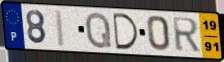0: (145, 14, 173, 53)
8: (25, 9, 49, 45)
D: (111, 11, 141, 51)
I: (53, 8, 67, 49)
Q: (84, 10, 114, 50)
R: (171, 16, 202, 53)
